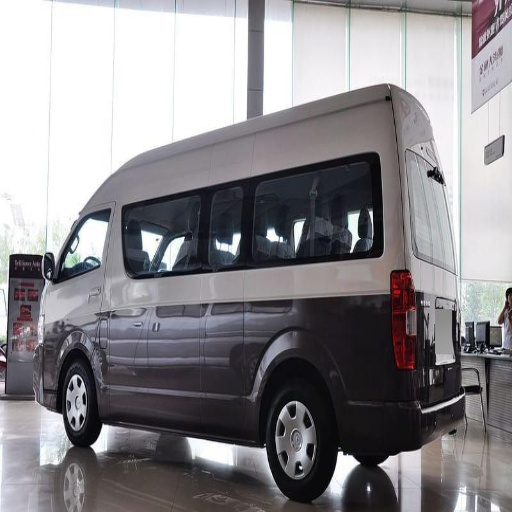front_left_door: (105, 243, 202, 389), (57, 208, 102, 282)
trunk: (171, 274, 445, 432), (270, 106, 388, 163)
